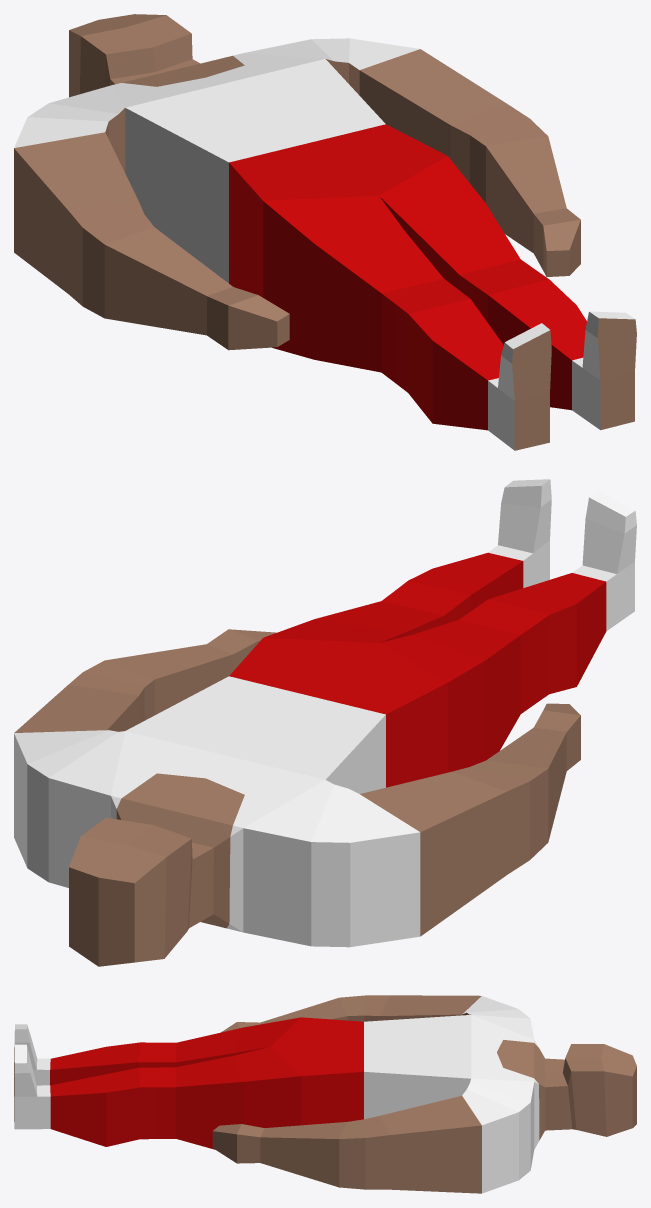
The model's file is MuscleMan2.fbx.
3 views of the same model, one above another, from view 1: azimuth 30°, elevation 25°; view 2: azimuth 150°, elevation 25°; view 3: azimuth 270°, elevation 25° (orthographic). The views are drawn at different scales.
Parts seen in each view (by area): view 1: MuscleMan.002; view 2: MuscleMan.002; view 3: MuscleMan.002.
Boxes of the visible parts, x1,y1,x2,y2 form: MuscleMan.002: (14,14,636,450); MuscleMan.002: (14,479,636,966); MuscleMan.002: (14,995,636,1193).
Size of the model in its own units: 98.57 by 35.75 by 182.
